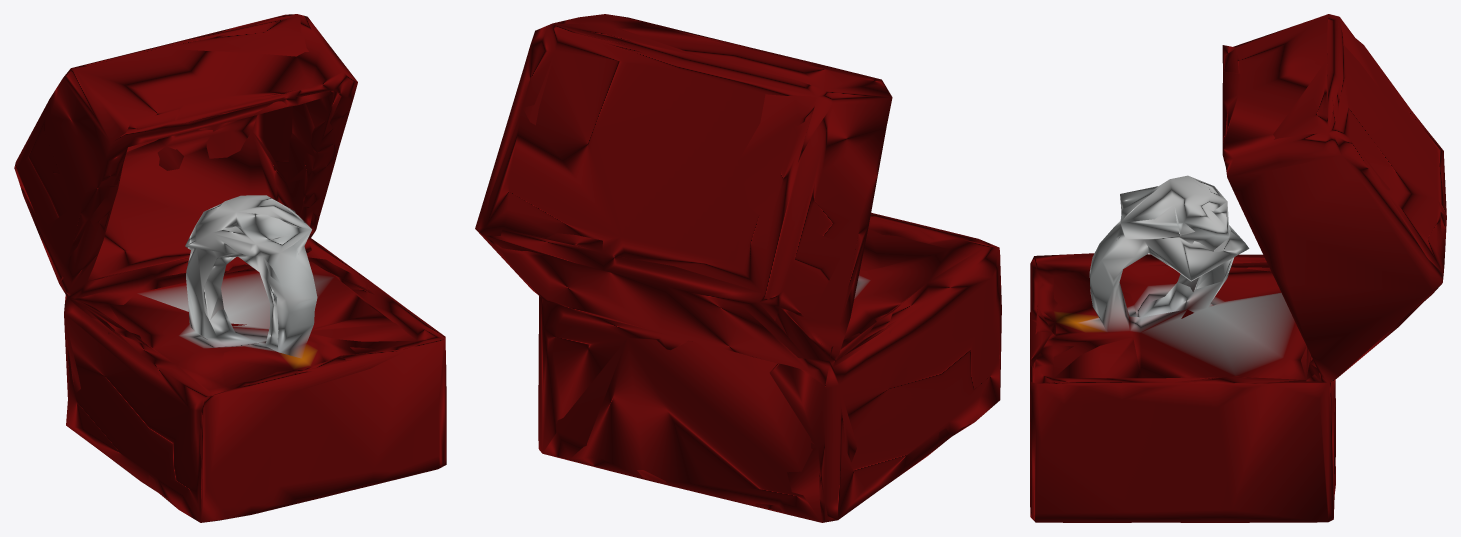
The model's file is gen3d-ring-box-lod0.glb.
3 views of the same model, side by side, from view 1: azimuth 30°, elevation 25°; view 2: azimuth 150°, elevation 25°; view 3: azimuth 270°, elevation 25° (orthographic). The views are drawn at different scales.
Parts seen in each view (by area): view 1: part_0; view 2: part_0; view 3: part_0.
Boxes of the visible parts, x1=… form: part_0: x1=14, y1=14, x2=446, y2=522; part_0: x1=475, y1=14, x2=1001, y2=522; part_0: x1=1030, y1=14, x2=1446, y2=522.
Size of the model in its own units: 0.7287 by 1 by 0.9771.
